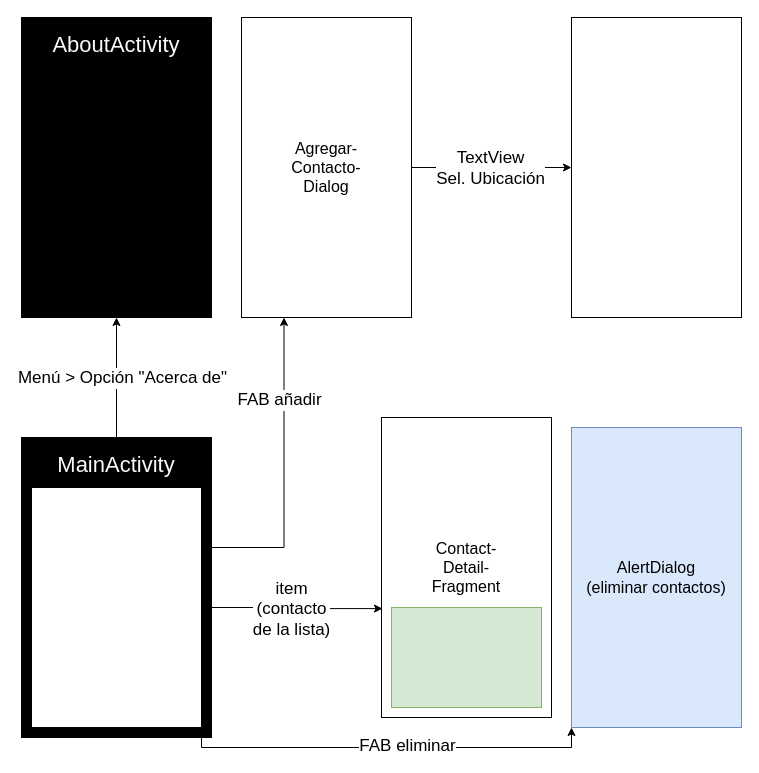
Image size: 759x773. Some labels were removed from this diagram. The shapes that lost their labels are listed below. From the top down, each one's centre as x and y in pixels, then its label:
At (x=656, y=167): "Seleccionar- Ubicacion- Fragment".
At (x=116, y=607): "Contact- List- Fragment".
At (x=466, y=657): "Mapa (Fragment)".
